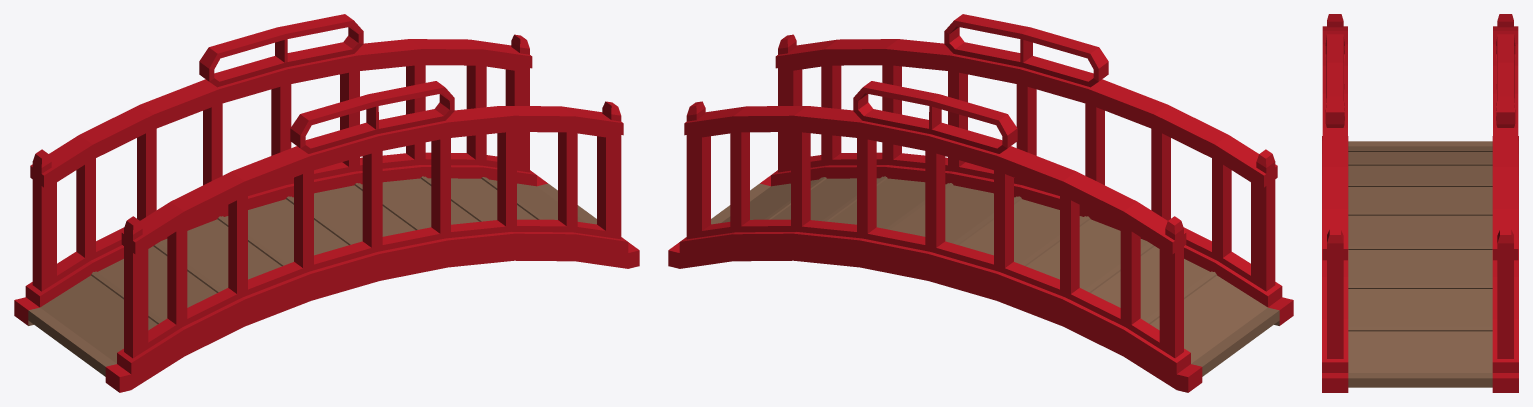
The model's file is Brug_2.fbx.
3 views of the same model, side by side, from view 1: azimuth 30°, elevation 25°; view 2: azimuth 150°, elevation 25°; view 3: azimuth 270°, elevation 25° (orthographic). The views are drawn at different scales.
Parts seen in each view (by area): view 1: Cube.001; view 2: Cube.001; view 3: Cube.001.
Part boxes in pixels (x1=…): Cube.001: x1=14, y1=14, x2=639, y2=392; Cube.001: x1=668, y1=14, x2=1293, y2=392; Cube.001: x1=1322, y1=14, x2=1518, y2=392.
Size of the model in its own units: 941 by 392 by 331.
